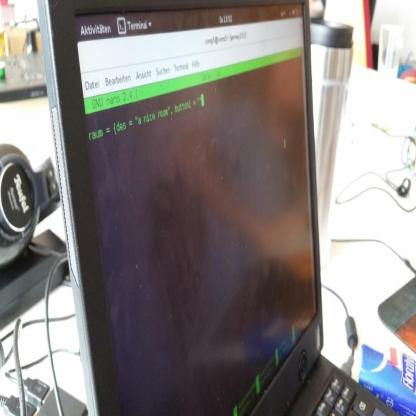board: (37, 0, 402, 416)
